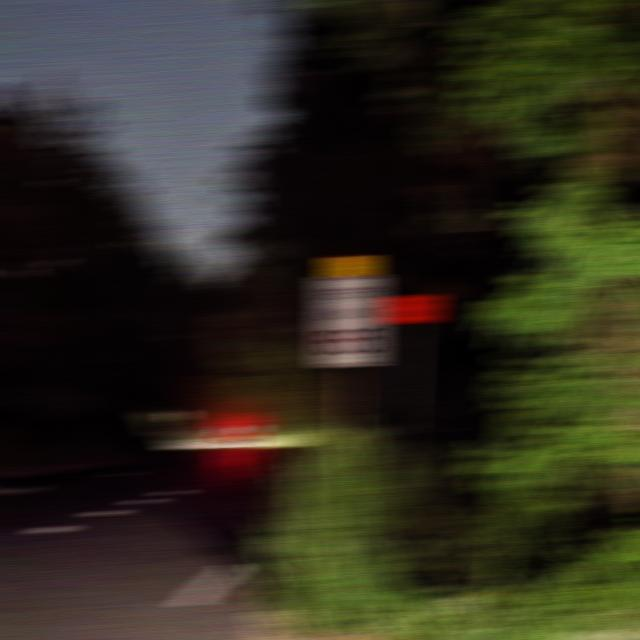speedLimit85: (313, 269, 383, 366)
